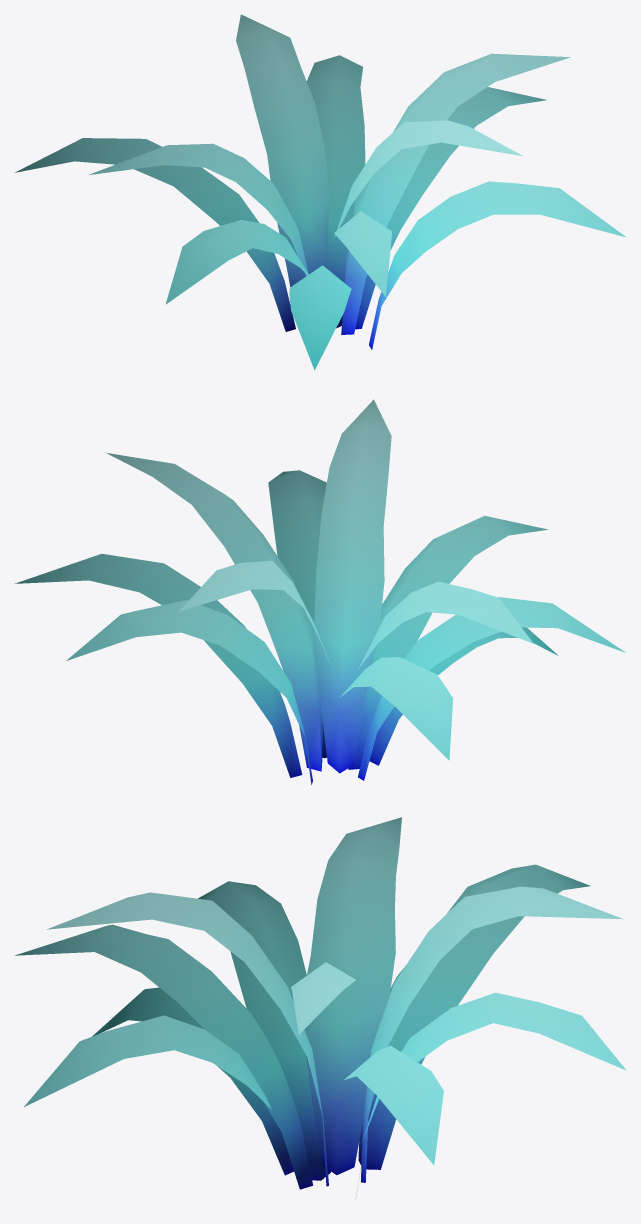
Rendered from SM_Env_Fern_02.glb.
3 views of the same model, one above another, from view 1: azimuth 30°, elevation 25°; view 2: azimuth 150°, elevation 25°; view 3: azimuth 270°, elevation 25° (orthographic). The views are drawn at different scales.
Parts seen in each view (by area): view 1: SM_Env_Fern_02_LOD0; view 2: SM_Env_Fern_02_LOD0; view 3: SM_Env_Fern_02_LOD0.
Boxes of the visible parts, x1,y1,x2,y2 form: SM_Env_Fern_02_LOD0: (14,14,626,370); SM_Env_Fern_02_LOD0: (14,399,625,784); SM_Env_Fern_02_LOD0: (15,817,626,1199).
Size of what is drawn, in the model's own units: 3.01 by 1.58 by 2.7.
